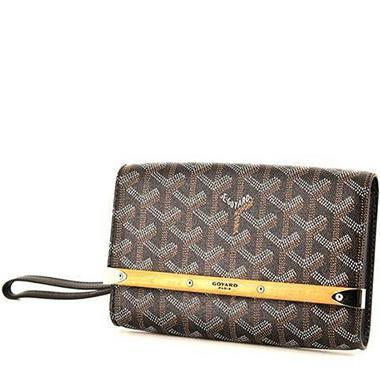GOYARD: (114, 162, 369, 350)
